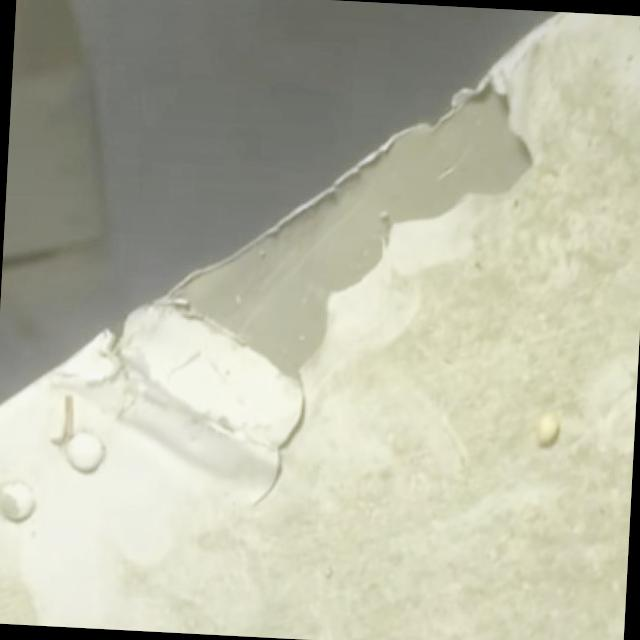crack: (261, 378, 338, 495)
